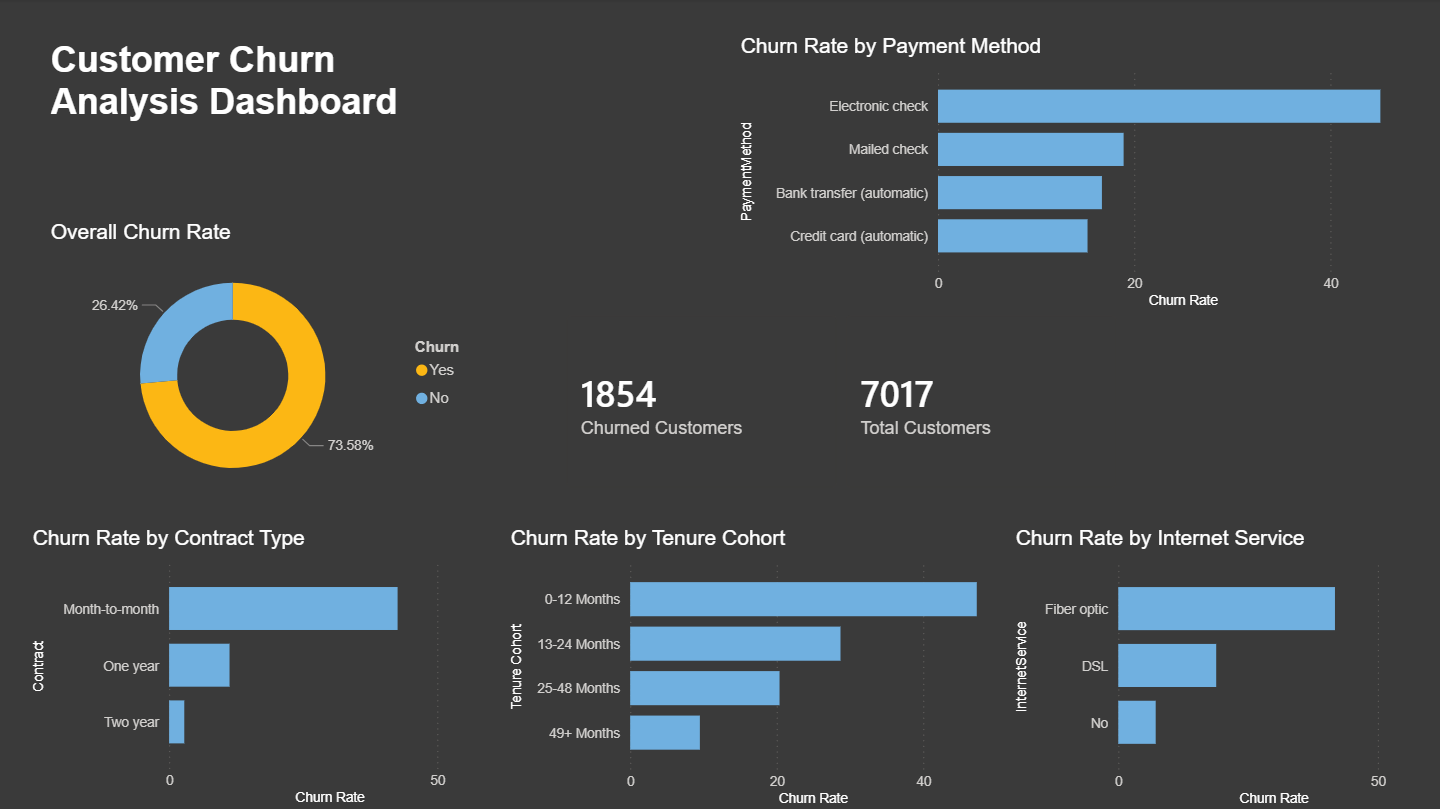

The page's visual inventory and layout, read from the dashboard file:
{"tool":"powerbi","page":{"name":"Customer Churn Analysis Dashboard","canvas":[1280,720],"ordinal":0},"visuals":[{"type":"donutChart","title":"Overall Churn Rate","fields":{"Category":["02_SQL_Analysis.Churn"],"Y":["02_SQL_Analysis.Churn Rate"]},"box":[41.7,196,391.9,254.5],"z":0},{"type":"clusteredBarChart","title":"Churn Rate by Contract Type","fields":{"Category":["02_SQL_Analysis.Contract"],"Y":["02_SQL_Analysis.Churn Rate"]},"box":[26.1,467.4,423.3,253],"z":1000},{"type":"clusteredBarChart","title":"Churn Rate by Payment Method","fields":{"Category":["02_SQL_Analysis.PaymentMethod"],"Y":["02_SQL_Analysis.Churn Rate"]},"box":[653.5,31,626.9,248.3],"z":2000},{"type":"clusteredBarChart","title":"Churn Rate by Tenure Cohort ","fields":{"Category":["02_SQL_Analysis.Tenure Cohort 2"],"Y":["02_SQL_Analysis.Churn Rate"]},"box":[449.7,467.3,447.8,253.4],"z":3000},{"type":"clusteredBarChart","title":"Churn Rate by Internet Service","fields":{"Category":["02_SQL_Analysis.InternetService"],"Y":["02_SQL_Analysis.Churn Rate"]},"box":[897.4,467.3,384.2,253.4],"z":4000},{"type":"cardVisual","fields":{"Data":["02_SQL_Analysis.Churned Customers","02_SQL_Analysis.Total Customers"]},"box":[486.8,263.3,523.2,187.1],"z":5000},{"type":"textbox","box":[42,31,392,165],"z":5001}]}

Visuals, with their boxes in screenshot pixels (x1, y1, x2, y2), scaled from the page's 1280x720 canvas onto the 1440x809 screenshot:
"Overall Churn Rate" donutChart: left=47, top=220, right=488, bottom=506
"Churn Rate by Contract Type" clusteredBarChart: left=29, top=525, right=506, bottom=808
"Churn Rate by Payment Method" clusteredBarChart: left=735, top=35, right=1439, bottom=314
"Churn Rate by Tenure Cohort " clusteredBarChart: left=506, top=525, right=1010, bottom=808
"Churn Rate by Internet Service" clusteredBarChart: left=1010, top=525, right=1439, bottom=808
cardVisual - 02_SQL_Analysis.Churned Customers x 02_SQL_Analysis.Total Customers: left=548, top=296, right=1136, bottom=506
textbox: left=47, top=35, right=488, bottom=220
